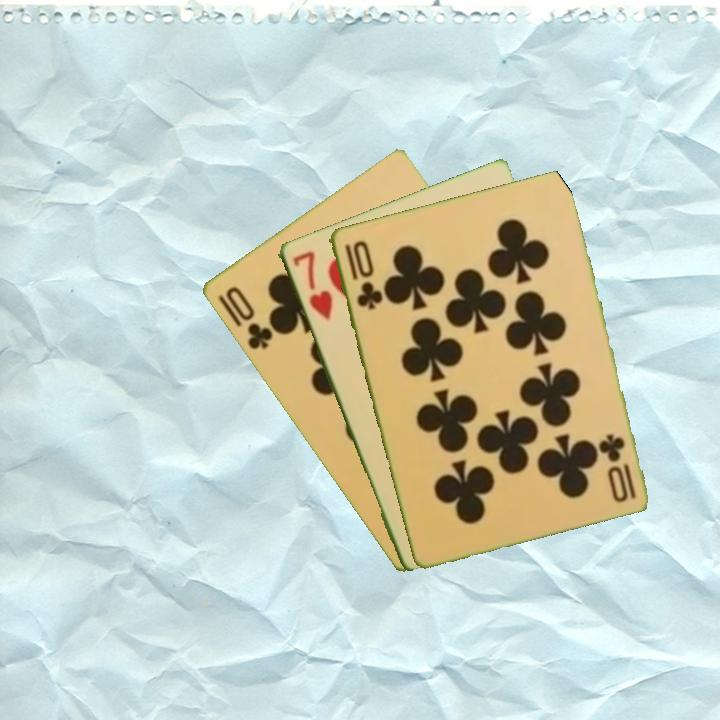10c: (221, 282, 276, 353), (340, 236, 384, 313), (598, 429, 638, 505)
7h: (288, 246, 335, 324)
